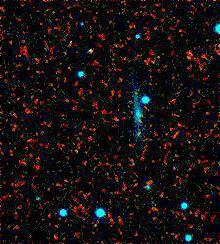star: (130, 122, 160, 152)
